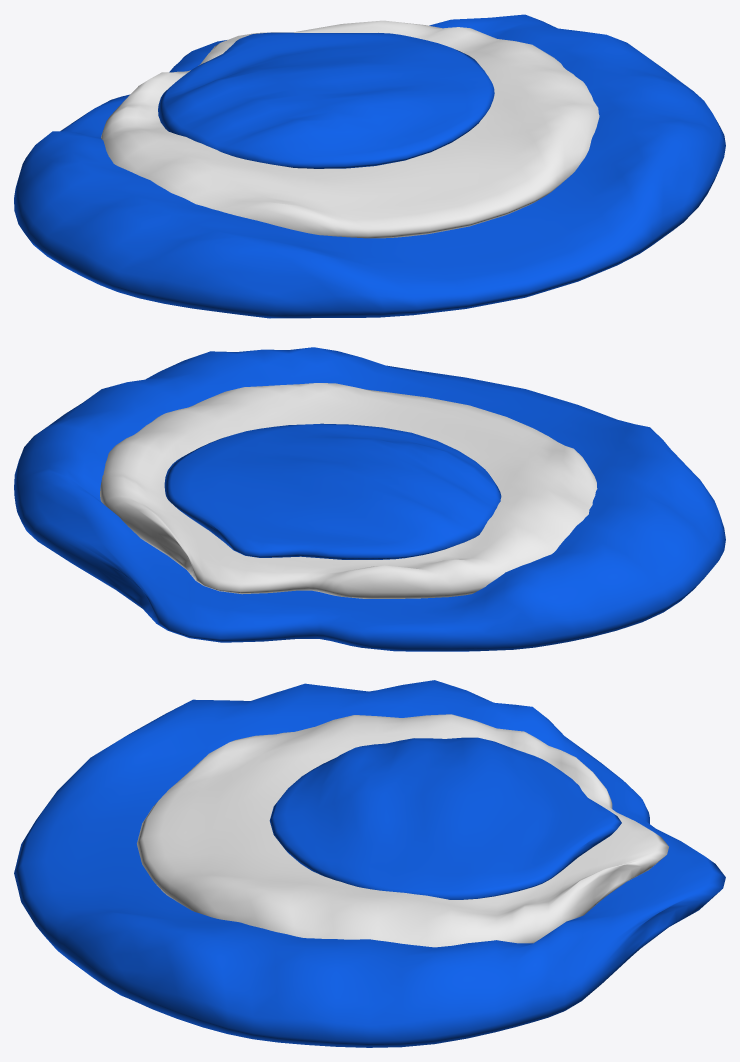
Rendered from Lago_Agua.fbx.
3 renders of one model, top to bottom at view 1: azimuth 30°, elevation 25°; view 2: azimuth 150°, elevation 25°; view 3: azimuth 270°, elevation 25°, orthographic. The views are drawn at different scales.
Visible parts, largest first — view 1: Plane.004, Plane.005, Plane.001; view 2: Plane.004, Plane.005, Plane.001; view 3: Plane.004, Plane.005, Plane.001.
Part boxes in pixels (<box>): Plane.004: <box>14,14,725,318</box>; Plane.005: <box>101,20,599,238</box>; Plane.001: <box>158,32,494,168</box>; Plane.004: <box>14,347,725,651</box>; Plane.005: <box>100,383,597,598</box>; Plane.001: <box>164,423,501,559</box>; Plane.004: <box>14,680,725,1047</box>; Plane.005: <box>137,714,668,947</box>; Plane.001: <box>269,737,621,899</box>.
Bounding box in the file's own units: 3217 × 419 × 2868.
